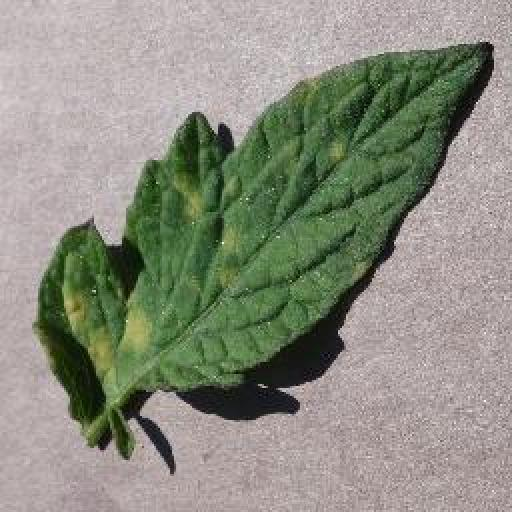disease_tomato: (31, 42, 495, 420)
